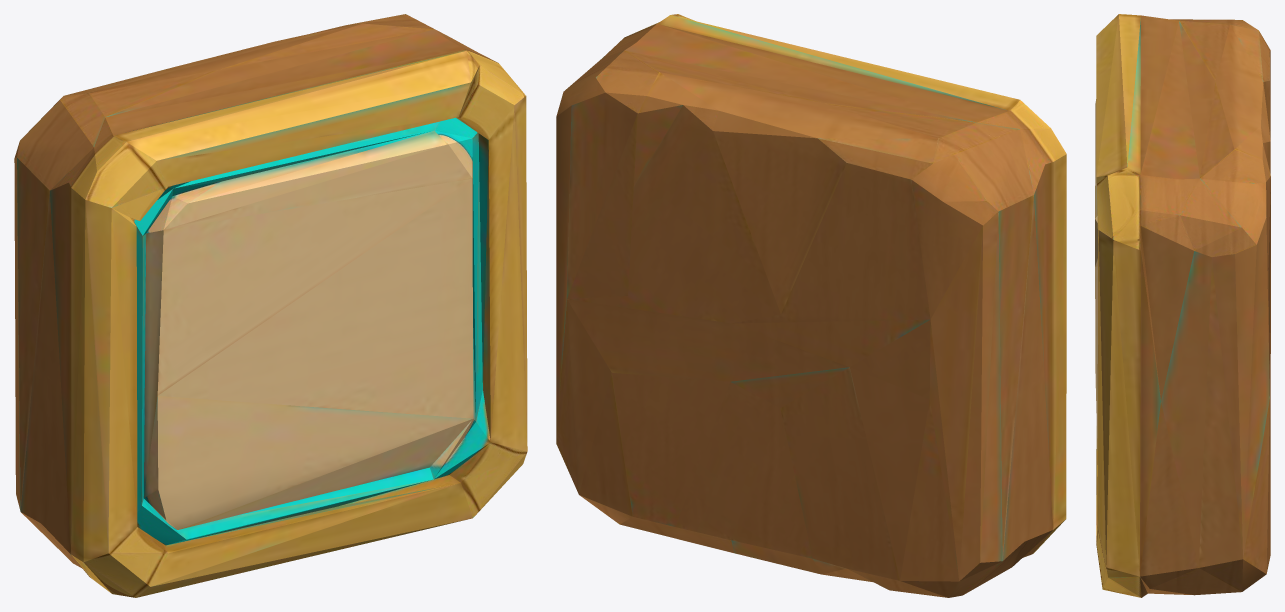
File: placa-de-letra.glb
The picture shows the model from 3 angles, left to right: view 1: azimuth 30°, elevation 25°; view 2: azimuth 150°, elevation 25°; view 3: azimuth 270°, elevation 25°; orthographic projection. The views are drawn at different scales.
Parts seen in each view (by area): view 1: Mesh_0; view 2: Mesh_0; view 3: Mesh_0.
Boxes of the visible parts, x1,y1,x2,y2 form: Mesh_0: (14,14,527,597); Mesh_0: (556,14,1066,597); Mesh_0: (1095,14,1270,597).
Bounding box in the file's own units: 1.88 × 1.87 × 0.6916.
1 material, 1 textured.
